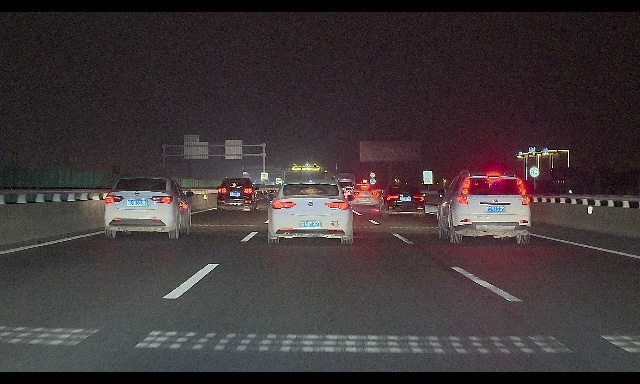car: (437, 170, 531, 245), (265, 179, 355, 244), (103, 175, 194, 239), (216, 177, 260, 214), (379, 185, 425, 218), (346, 184, 380, 208), (337, 178, 354, 196)
truck: (333, 173, 356, 198)
